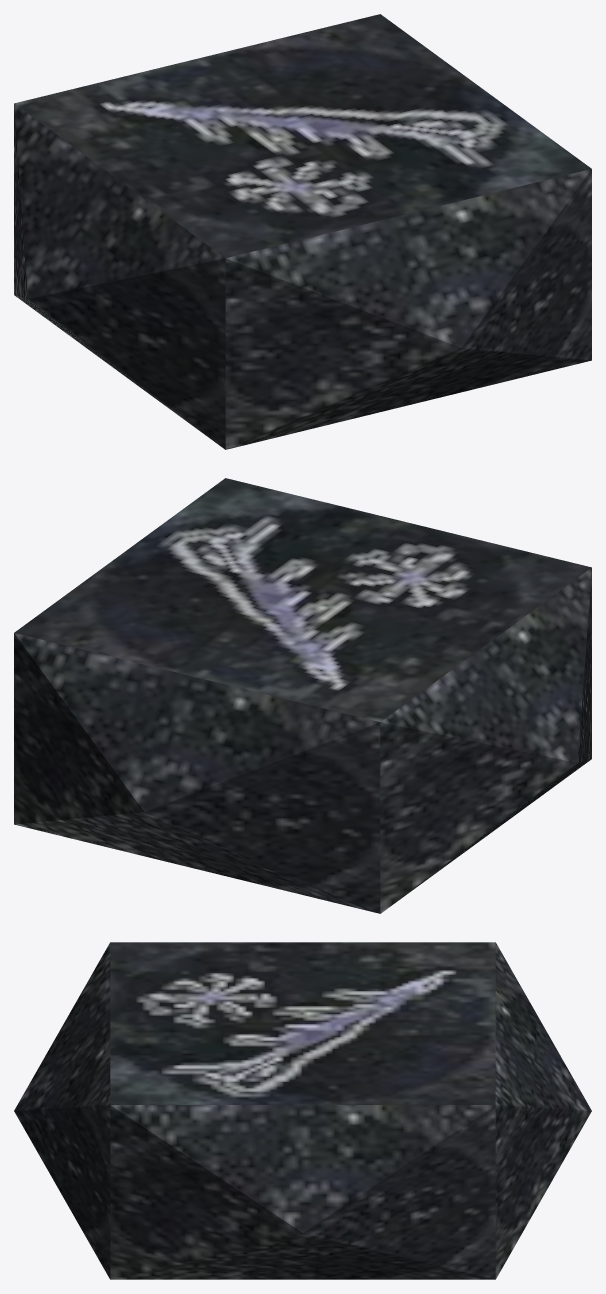
Rendered from ITRU_WATER04.glb.
The picture shows the model from 3 angles, top to bottom: view 1: azimuth 30°, elevation 25°; view 2: azimuth 150°, elevation 25°; view 3: azimuth 270°, elevation 25°; orthographic projection. The views are drawn at different scales.
Parts seen in each view (by area): view 1: ITRU_WATER04; view 2: ITRU_WATER04; view 3: ITRU_WATER04.
Part boxes in pixels (bbox=[...]): ITRU_WATER04: bbox=[14, 14, 591, 449]; ITRU_WATER04: bbox=[14, 478, 591, 913]; ITRU_WATER04: bbox=[14, 942, 591, 1279].
Size of the model in its own units: 0.27 by 0.09 by 0.27.
1 material, 1 textured.
